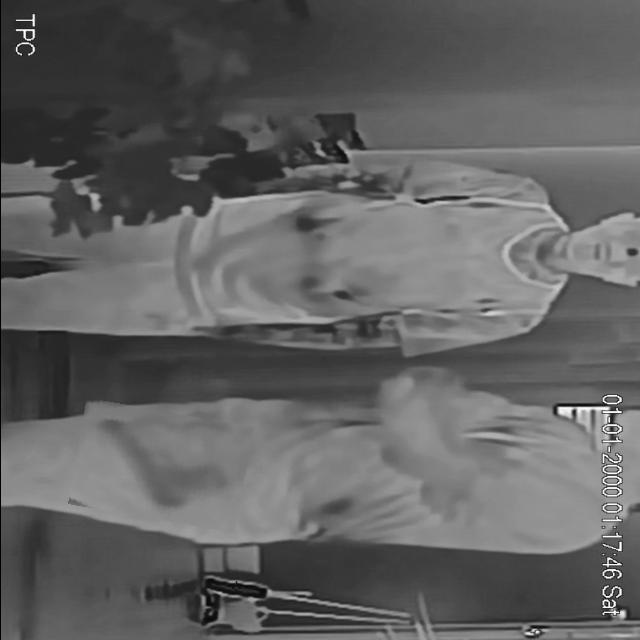Weapon: (71, 406, 249, 526)
